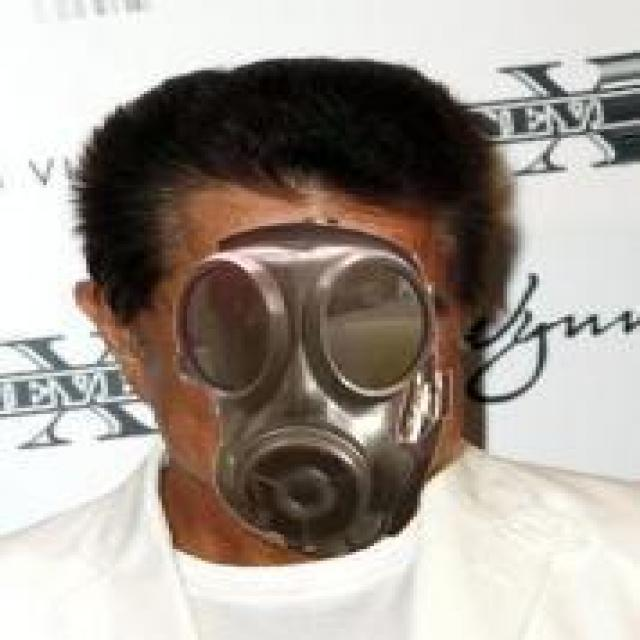mask: (86, 118, 536, 534)
